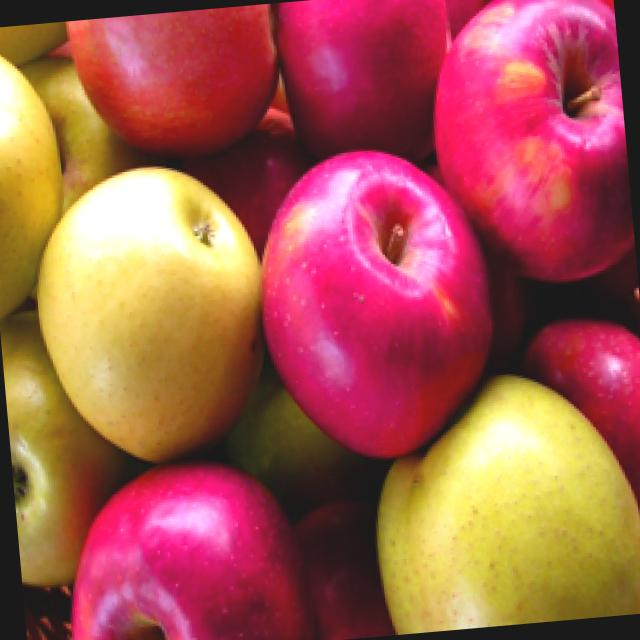Fresh_Apple: (13, 122, 394, 496), (254, 90, 540, 463), (42, 400, 446, 640), (418, 0, 637, 287)
